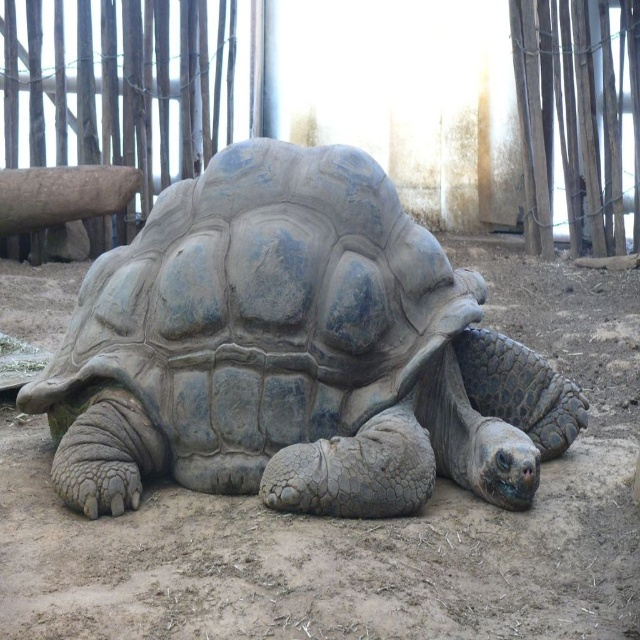Sea turtle: (10, 133, 594, 533)
